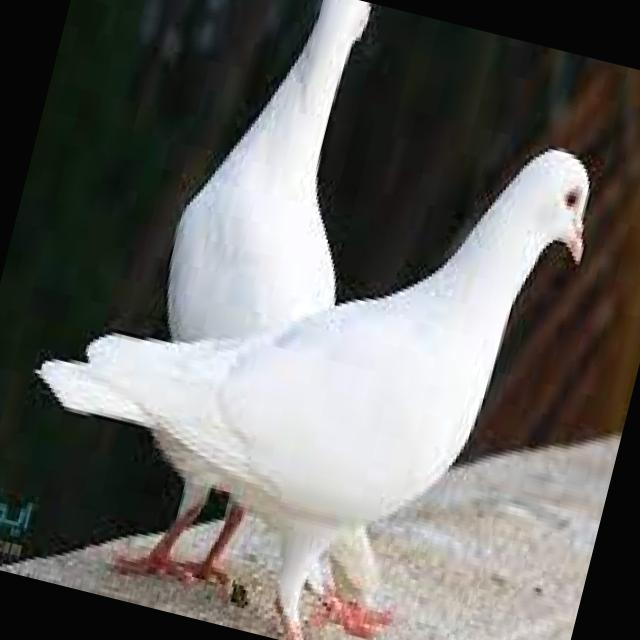bird: (0, 34, 606, 640), (81, 0, 411, 609)
